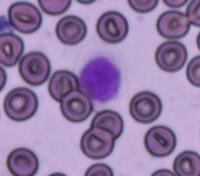L: (76, 51, 126, 106)
